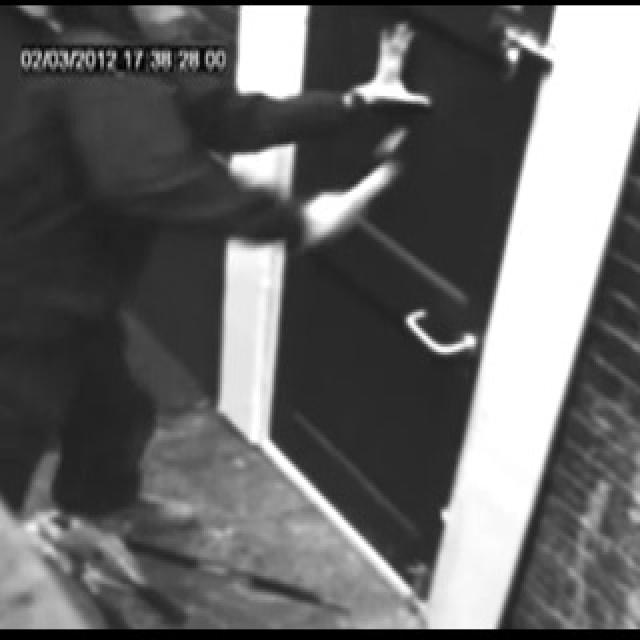thief: (45, 0, 196, 69)
